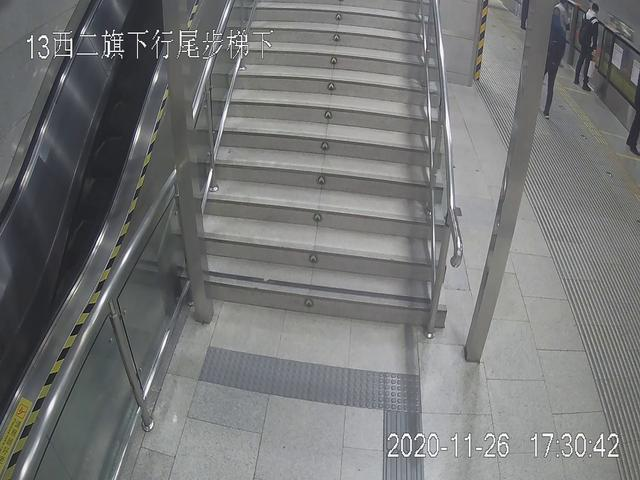person: (538, 1, 571, 118), (575, 1, 606, 94)
